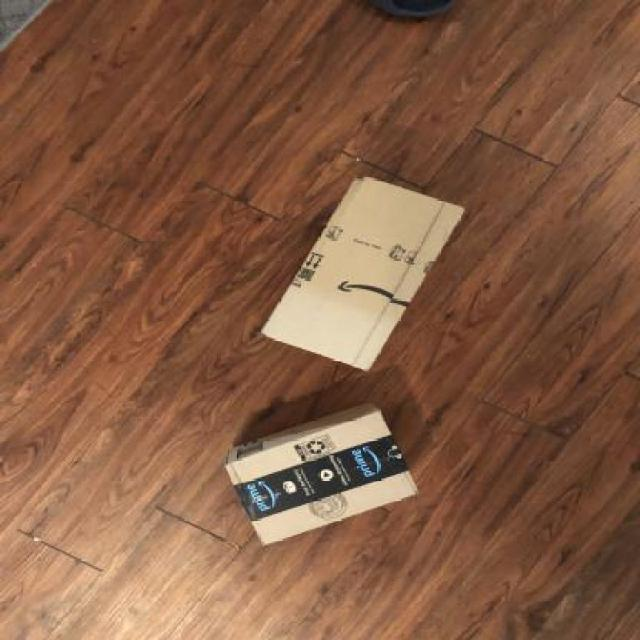cardboxes: (251, 171, 474, 378), (216, 397, 428, 551)
